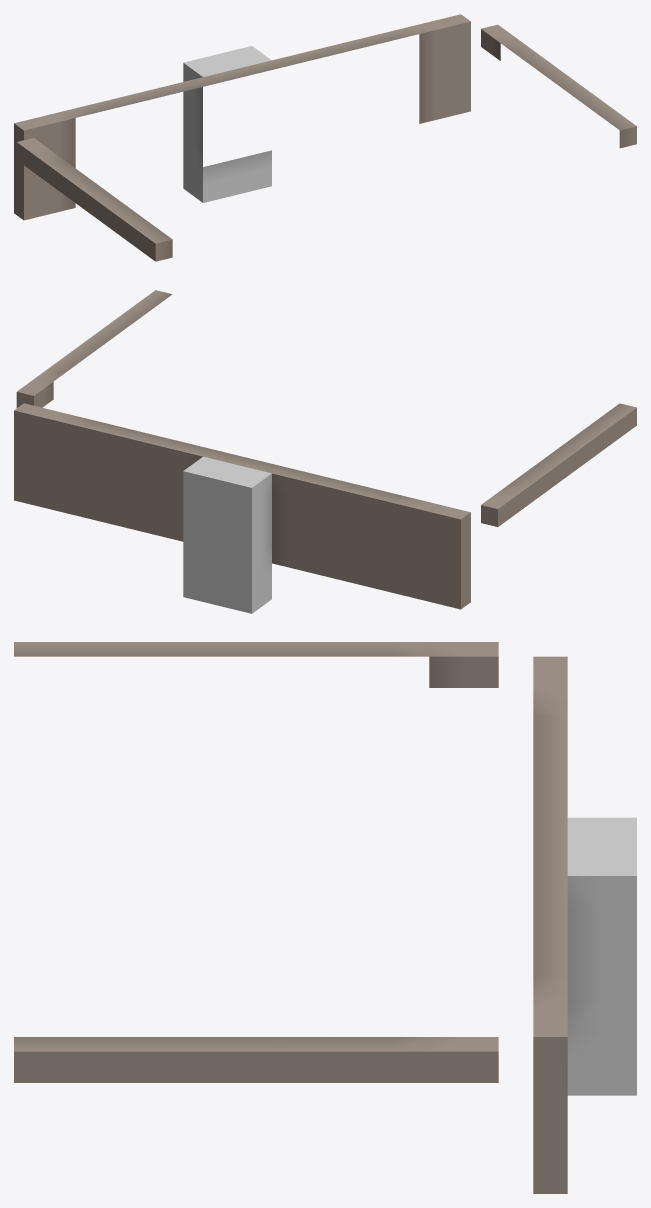
File: hair_f_shaved_sides.glb
3 renders of one model, top to bottom at view 1: azimuth 30°, elevation 25°; view 2: azimuth 150°, elevation 25°; view 3: azimuth 270°, elevation 25°, orthographic. The views are drawn at different scales.
Visible parts, largest first — view 1: VoxelVisual; view 2: VoxelVisual; view 3: VoxelVisual.
Boxes of the visible parts, box(x1,y1,x2,y2) form: VoxelVisual: box(14, 14, 636, 261); VoxelVisual: box(14, 290, 636, 613); VoxelVisual: box(14, 642, 636, 1193).
Size of what is drawn, in the model's own units: 1.75 by 0.4375 by 1.12.
